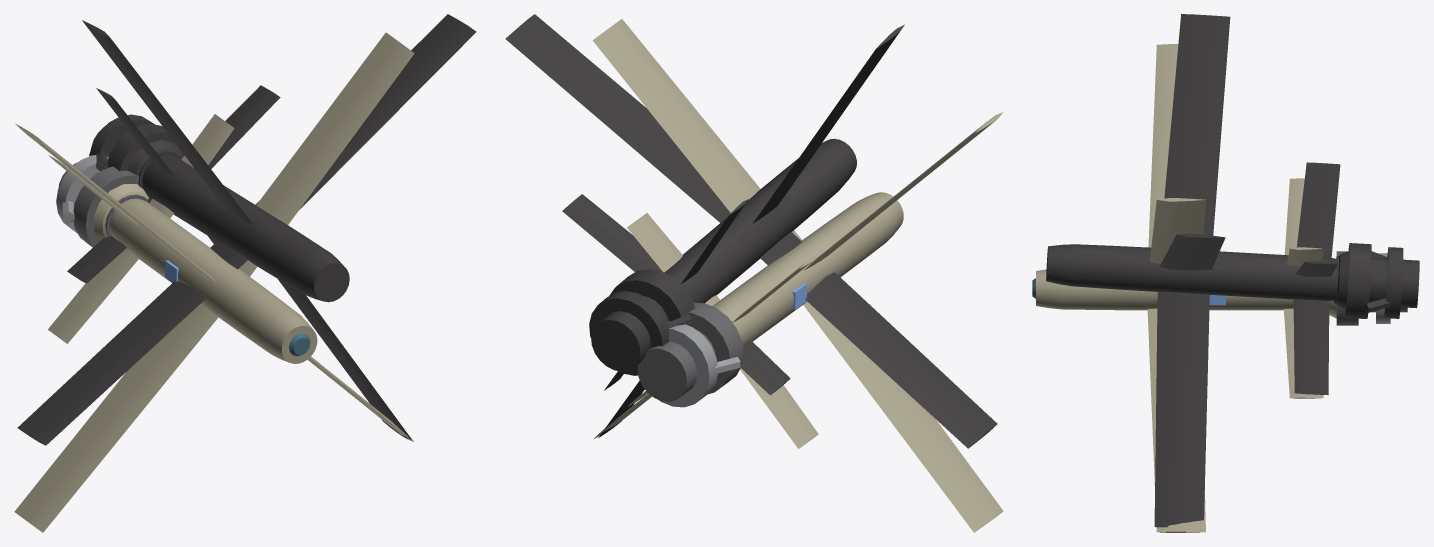
Rendered from loiterer__hero_120.glb.
The picture shows the model from 3 angles, left to right: view 1: azimuth 30°, elevation 25°; view 2: azimuth 150°, elevation 25°; view 3: azimuth 270°, elevation 25°; orthographic projection. The views are drawn at different scales.
Parts seen in each view (by area): view 1: Wreck, Fuselage_Mesh, Propeller_Mesh; view 2: Wreck, Fuselage_Mesh, Propeller_Mesh; view 3: Wreck, Fuselage_Mesh, Propeller_Mesh.
Part boxes in pixels (<box>): Wreck: <box>17,14,476,445</box>; Fuselage_Mesh: <box>14,32,414,532</box>; Propeller_Mesh: <box>56,155,148,247</box>; Wreck: <box>505,14,997,448</box>; Fuselage_Mesh: <box>592,19,1003,532</box>; Propeller_Mesh: <box>637,302,743,407</box>; Wreck: <box>1046,14,1419,527</box>; Fuselage_Mesh: <box>1032,44,1323,532</box>; Propeller_Mesh: <box>1329,251,1407,325</box>.
Size of what is drawn, in the model's own units: 1.81 by 1.8 by 1.58.
